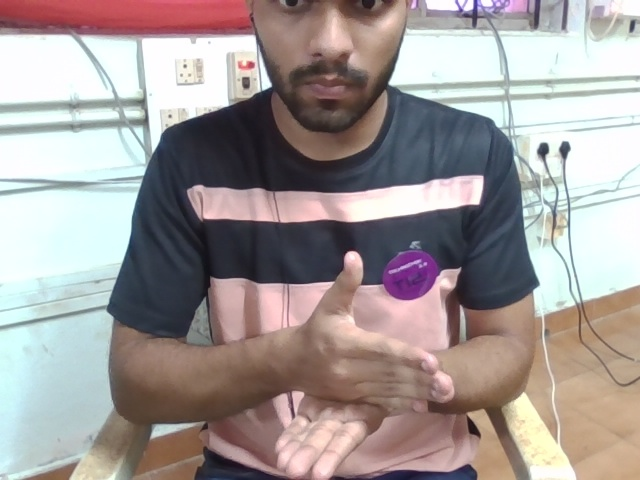stop: (251, 253, 470, 480)
